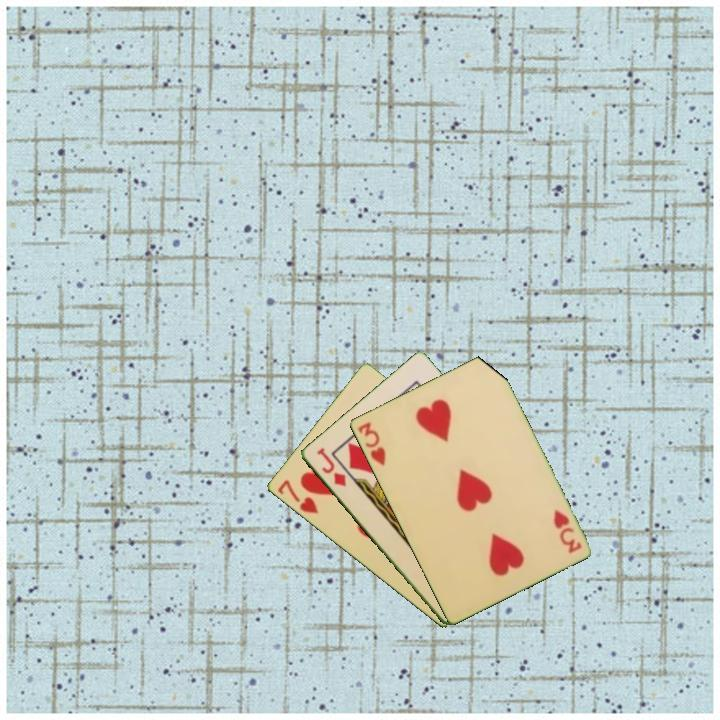3h: (549, 506, 584, 556), (354, 418, 388, 469)
7h: (273, 476, 321, 517)
Jd: (313, 444, 349, 489)
